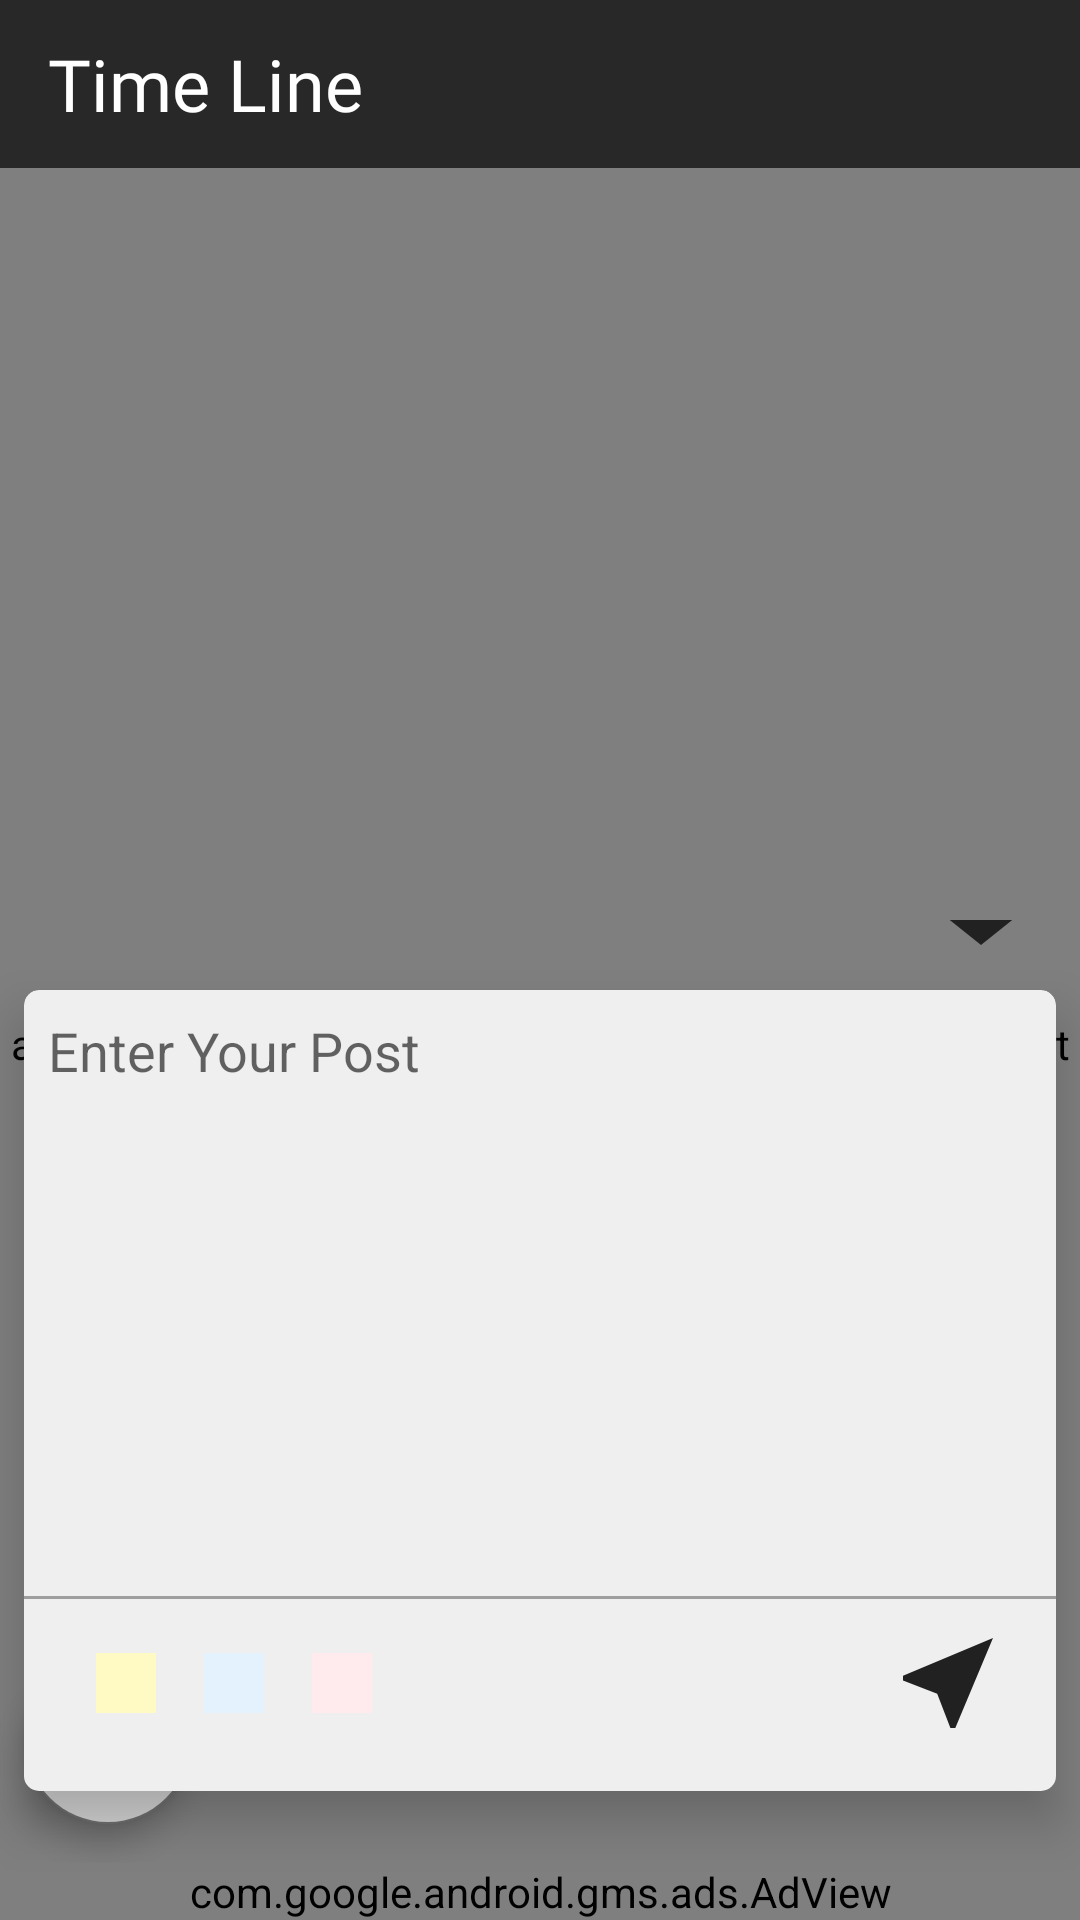

Icons on this 1080px x 1920px Android screen, each with its box as (x1, y1, x2, y2):
arrow drop down: (950, 920, 1012, 945)
near me: (903, 1638, 993, 1728)
